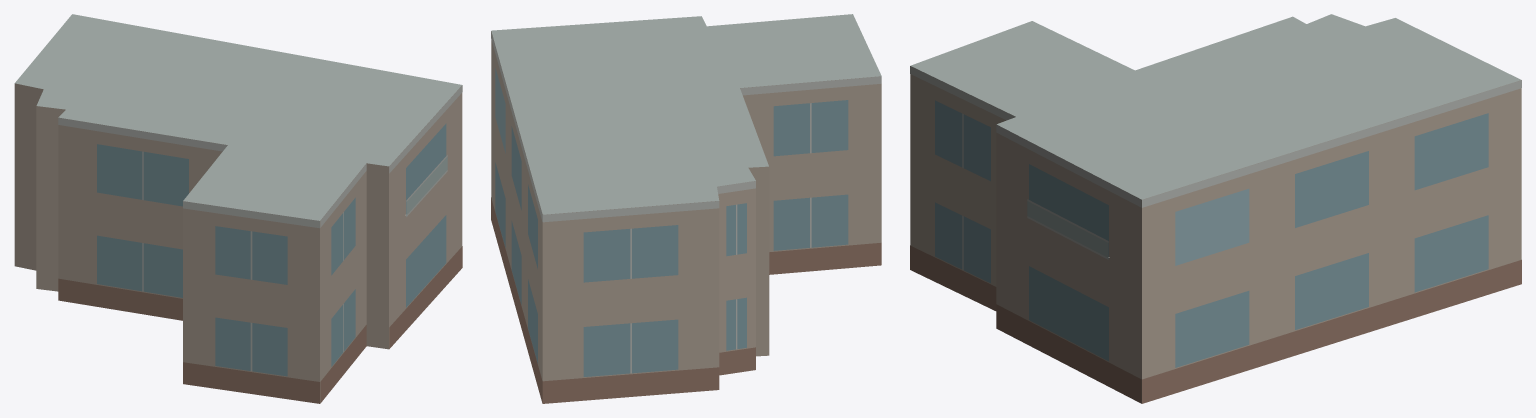
File: survey-upis-32920023.glb
The picture shows the model from 3 angles, left to right: view 1: azimuth 30°, elevation 25°; view 2: azimuth 150°, elevation 25°; view 3: azimuth 270°, elevation 25°; orthographic projection. The views are drawn at different scales.
Parts seen in each view (by area): view 1: survey-upis-32920023.tmp; view 2: survey-upis-32920023.tmp; view 3: survey-upis-32920023.tmp.
Boxes of the visible parts, box(x1,y1,x2,y2) form: survey-upis-32920023.tmp: box(14, 14, 462, 403); survey-upis-32920023.tmp: box(491, 14, 881, 403); survey-upis-32920023.tmp: box(910, 14, 1521, 403).
Size of the model in its own units: 11.91 by 6.1 by 16.57.
